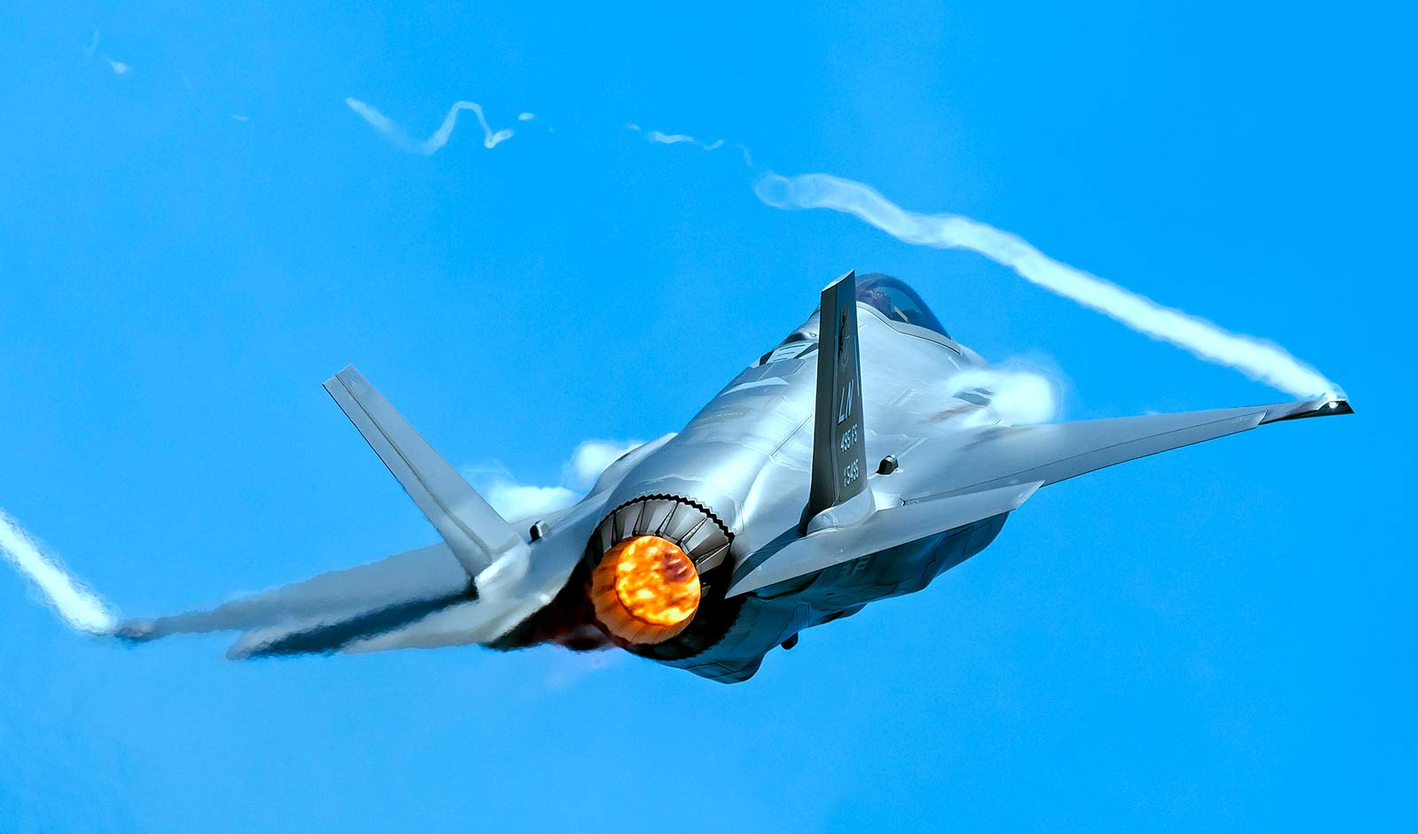F35: (81, 243, 1365, 695)
